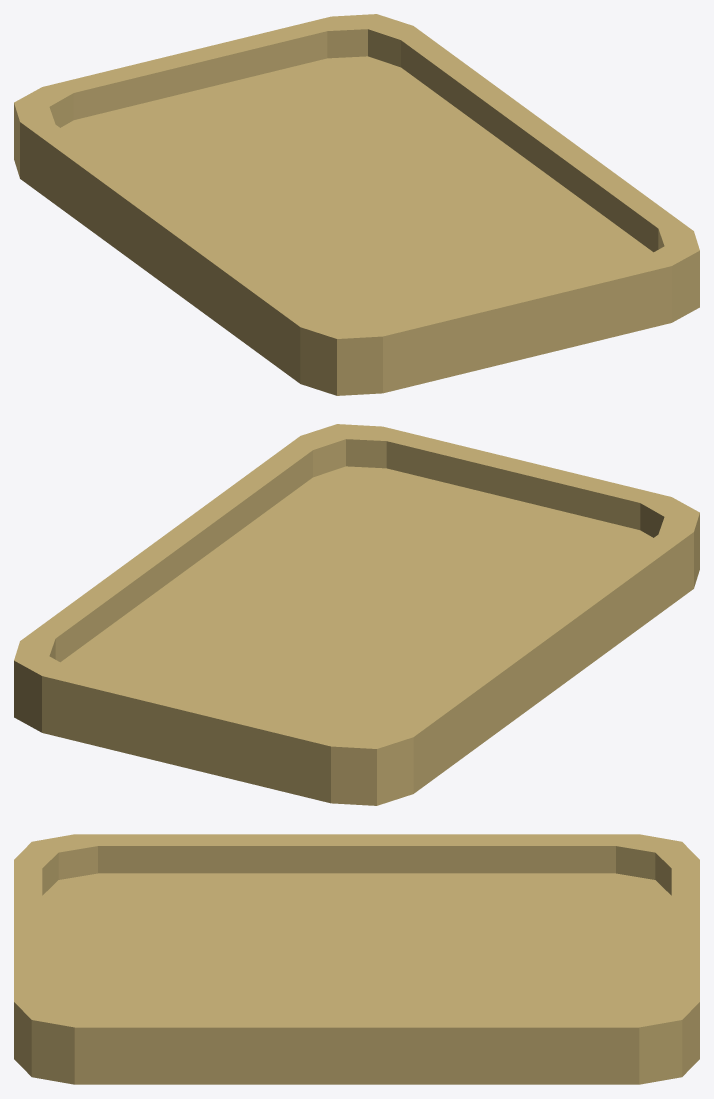
File: SM_MetalTray_01.glb
3 views of the same model, one above another, from view 1: azimuth 30°, elevation 25°; view 2: azimuth 150°, elevation 25°; view 3: azimuth 270°, elevation 25° (orthographic).
Visible parts, largest first — view 1: SM_MetalTray_01; view 2: SM_MetalTray_01; view 3: SM_MetalTray_01.
Part boxes in pixels (<box>): SM_MetalTray_01: <box>14,14,699,395</box>; SM_MetalTray_01: <box>14,424,699,805</box>; SM_MetalTray_01: <box>14,834,699,1084</box>.
Bounding box in the file's own units: 0.4446 × 0.0614 × 0.667.
Materials: 1 (1 with a texture image).
